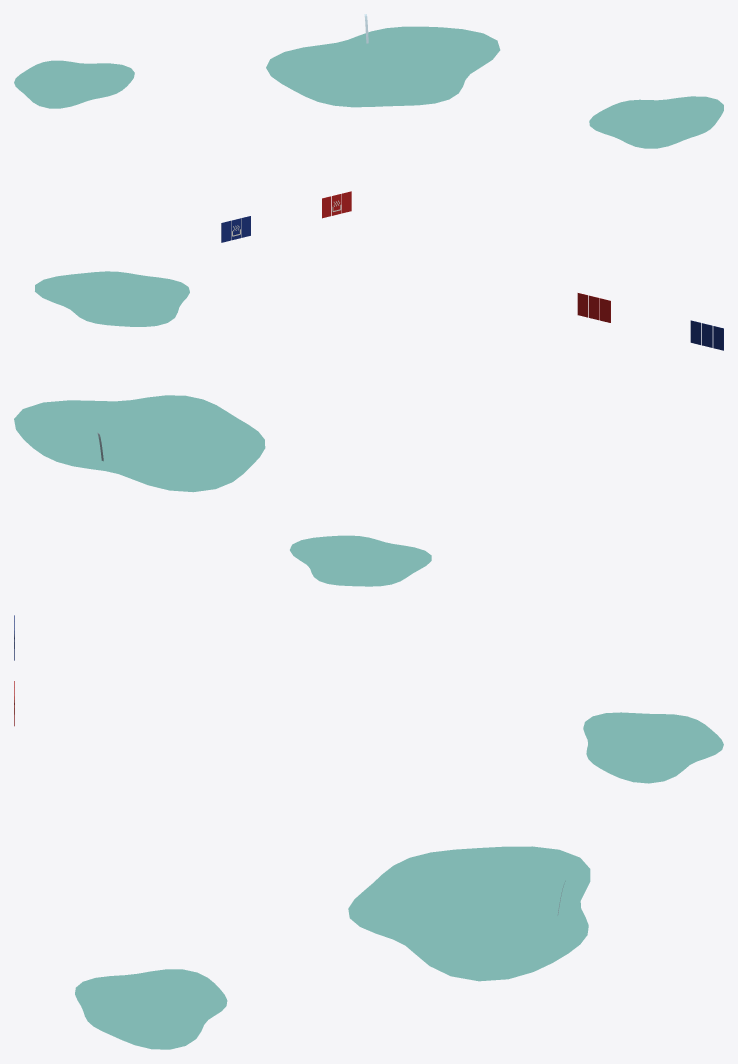
The model's file is SM_Onsen_NoCol.fbx.
The picture shows the model from 3 angles, top to bottom: view 1: azimuth 30°, elevation 25°; view 2: azimuth 150°, elevation 25°; view 3: azimuth 270°, elevation 25°; orthographic projection. The views are drawn at different scales.
Visible parts, largest first — view 1: SM_Onsen_NoCol; view 2: SM_Onsen_NoCol; view 3: SM_Onsen_NoCol.
Boxes of the visible parts, <box> form: SM_Onsen_NoCol: <box>14,14,723,242</box>; SM_Onsen_NoCol: <box>14,271,723,586</box>; SM_Onsen_NoCol: <box>14,615,723,1049</box>.
Bounding box in the file's own units: 35.3 × 3.32 × 29.26.
